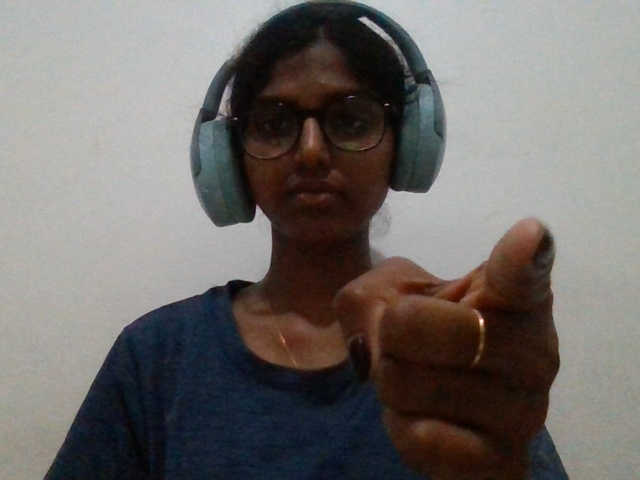You: (301, 188, 628, 480)
